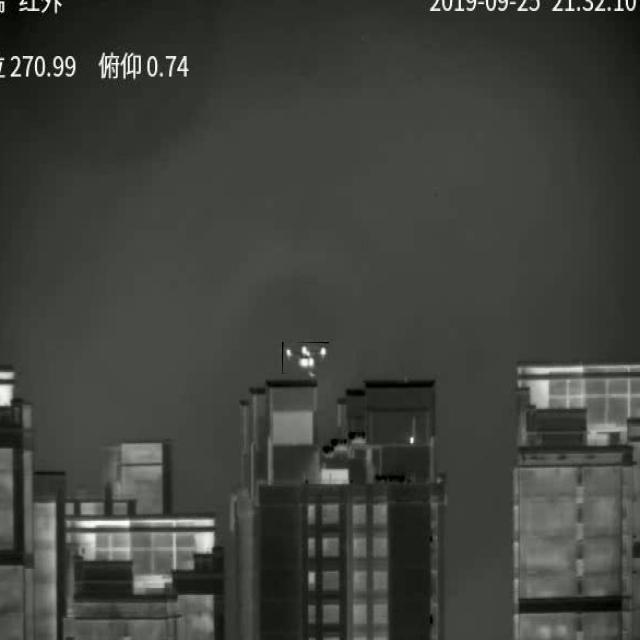drone: (283, 342, 329, 374)
